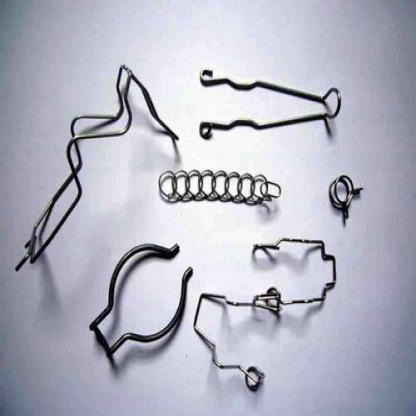FOD: (196, 63, 342, 140)
